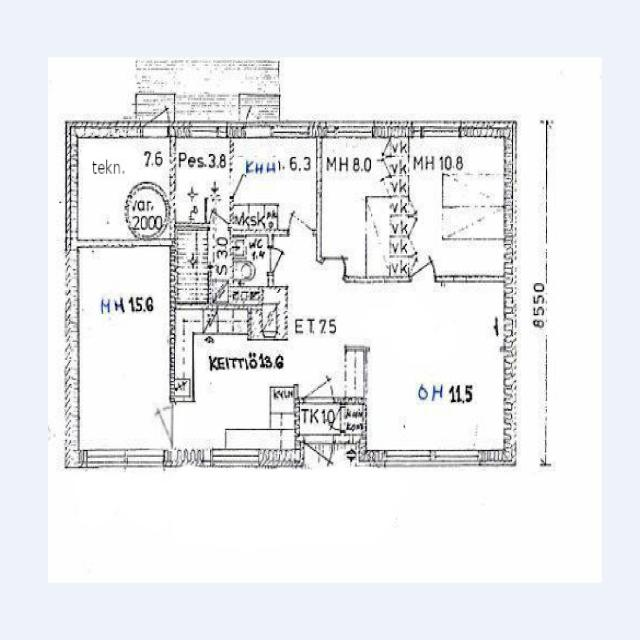door: (320, 230, 356, 279), (242, 85, 272, 137), (142, 89, 168, 137), (305, 436, 333, 480), (304, 360, 333, 402), (144, 407, 175, 440), (412, 248, 434, 282), (290, 202, 312, 235), (228, 170, 254, 197), (268, 248, 292, 272), (323, 408, 346, 430), (210, 202, 227, 230)
